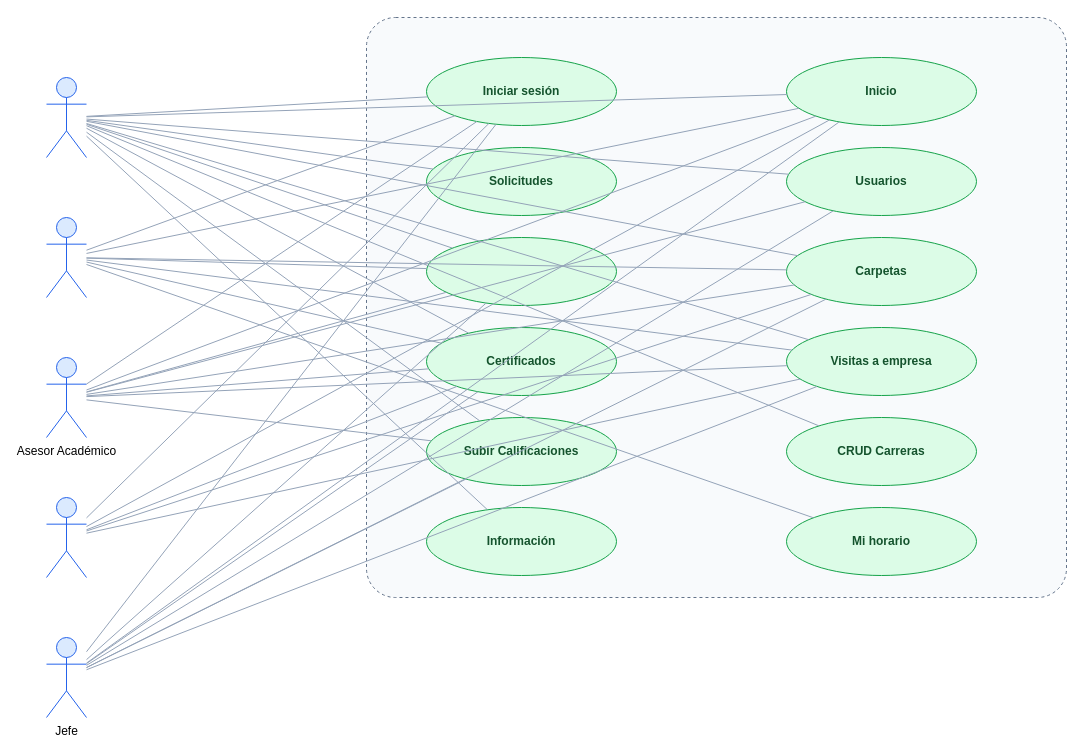
This 1084x756 diagram has some shape labels left out. The shapes that lost their labels are listed below. From the top down, each one's box as (x1, y1, x2, y2) in pixels, then its label:
(46, 76, 86, 158): Administrador
(46, 216, 86, 298): Alumnos
(426, 236, 616, 306): Catálogo
(366, 16, 1066, 598): Sistema de Control Escolar
(46, 496, 86, 578): Asesor Industrial
